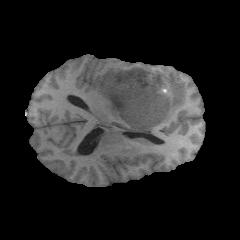glioma: (94, 66, 186, 134)
